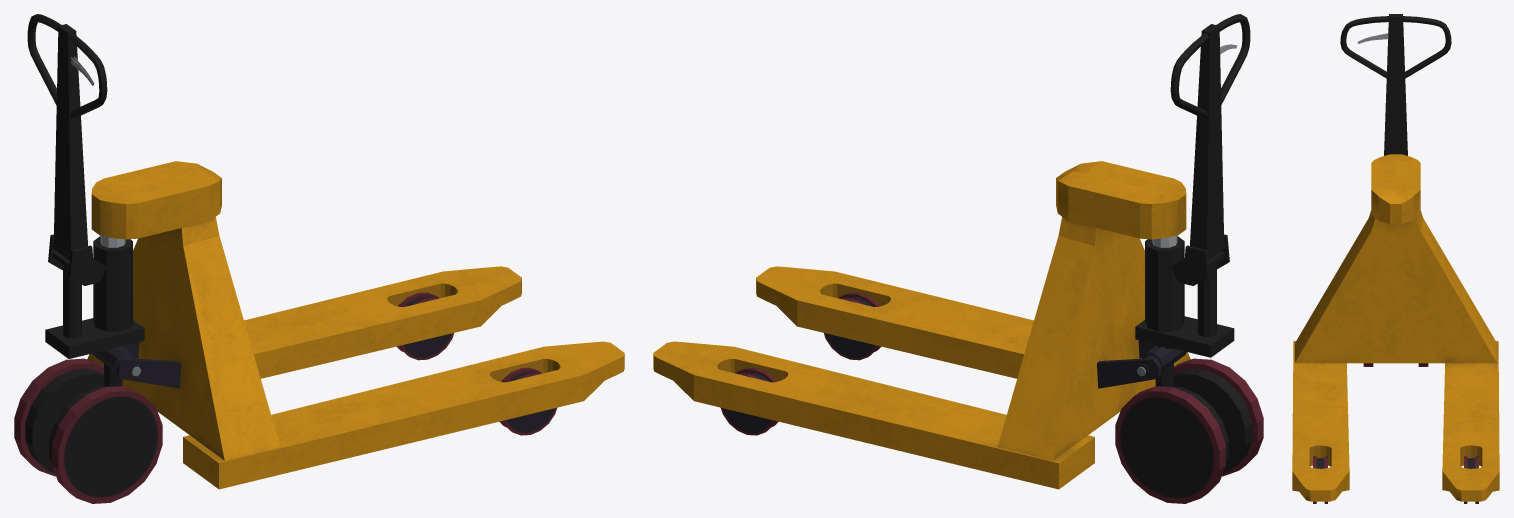
File: aws_robomaker_warehouse_PalletJackB_01_visual.DAE
3 renders of one model, left to right at view 1: azimuth 30°, elevation 25°; view 2: azimuth 150°, elevation 25°; view 3: azimuth 270°, elevation 25°, orthographic. The views are drawn at different scales.
Visible parts, largest first — view 1: aws_robomaker_warehouse_PalletJackB_01_visual; view 2: aws_robomaker_warehouse_PalletJackB_01_visual; view 3: aws_robomaker_warehouse_PalletJackB_01_visual.
Boxes of the visible parts, <box> form: aws_robomaker_warehouse_PalletJackB_01_visual: <box>14,14,624,503</box>; aws_robomaker_warehouse_PalletJackB_01_visual: <box>653,14,1263,503</box>; aws_robomaker_warehouse_PalletJackB_01_visual: <box>1292,14,1499,503</box>.
Size of the model in its own units: 115 by 53.17 by 96.42.
